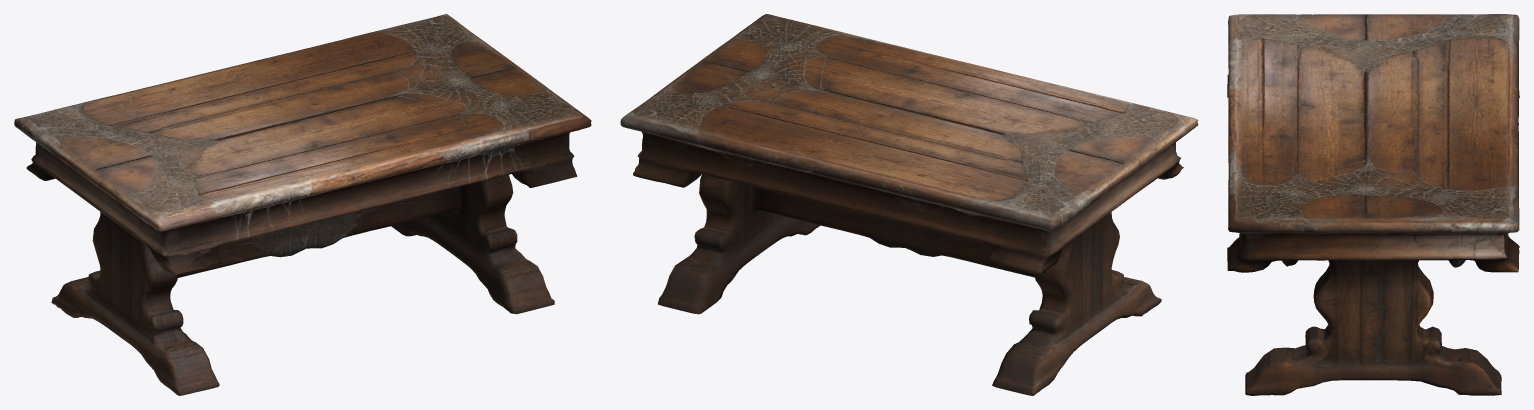
The model's file is CIYC_AntiqueTable.fbx.
The picture shows the model from 3 angles, left to right: view 1: azimuth 30°, elevation 25°; view 2: azimuth 150°, elevation 25°; view 3: azimuth 270°, elevation 25°; orthographic projection.
Visible parts, largest first — view 1: Mesh0; view 2: Mesh0; view 3: Mesh0.
Boxes of the visible parts, x1,y1,x2,y2 form: Mesh0: (14,14,591,395); Mesh0: (620,14,1198,395); Mesh0: (1227,14,1519,395).
Size of the model in its own units: 200 by 83.46 by 117.
1 material, 1 textured.
